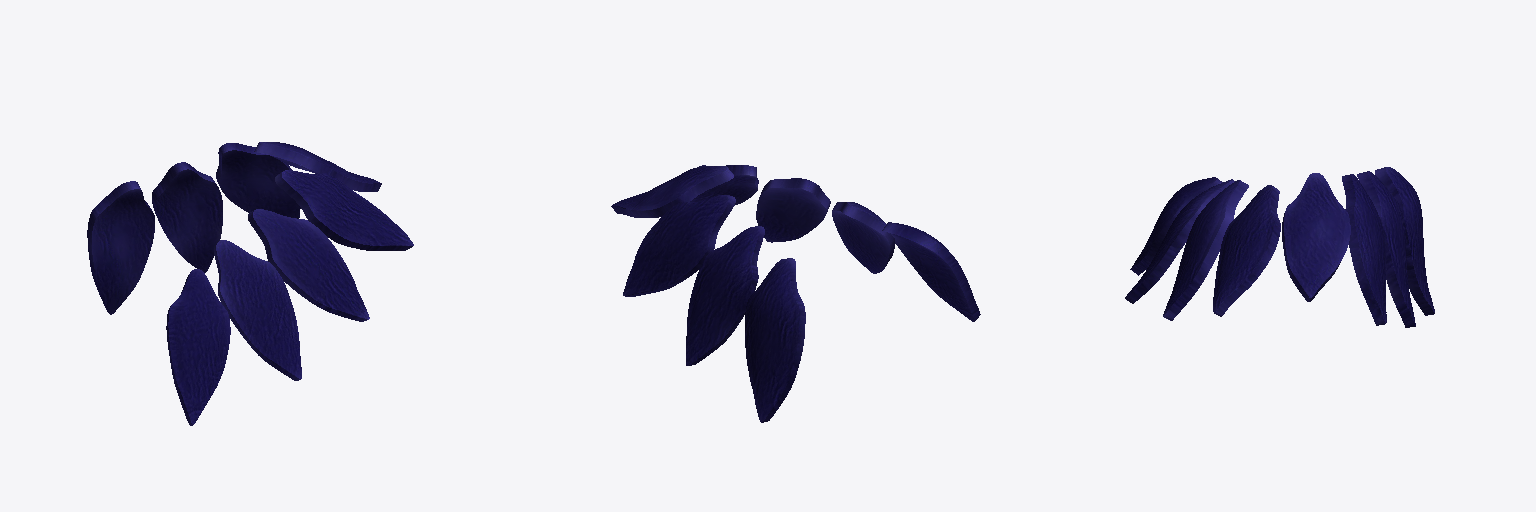
The picture shows the model from 3 angles: view 1: azimuth 30°, elevation 25°; view 2: azimuth 150°, elevation 25°; view 3: azimuth 270°, elevation 25°; orthographic projection.
Parts seen in each view (by area): view 1: Group27382, Group27472, Group27367, Group27412, Group27457, Group27442, Group27397, Group27427; view 2: Group27412, Group27442, Group27397, Group27367, Group27472, Group27382, Group27427, Group27457; view 3: Group27427, Group27457, Group27472, Group27397, Group27442, Group27412, Group27382, Group27367.
Part boxes in pixels (x1,y1,x2,y2): Group27382: (214,240,301,380); Group27472: (248,209,369,321); Group27367: (166,269,230,425); Group27412: (87,181,154,314); Group27457: (275,170,413,250); Group27442: (152,162,222,272); Group27397: (216,143,300,218); Group27427: (254,142,381,191); Group27412: (745,258,805,422); Group27442: (686,226,764,365); Group27397: (623,195,735,296); Group27367: (882,222,980,321); Group27472: (756,178,830,242); Group27382: (832,202,894,273); Group27427: (611,165,733,217); Group27457: (690,165,758,204); Group27427: (1282,173,1350,301); Group27457: (1213,185,1280,316); Group27472: (1163,180,1248,320); Group27397: (1342,174,1386,325); Group27442: (1357,171,1415,327); Group27412: (1375,167,1434,315); Group27382: (1125,179,1234,303); Group27367: (1130,177,1222,275).
Size of the model in its own units: 1.2 by 0.7655 by 1.14.
Materials: 1 (1 with a texture image).